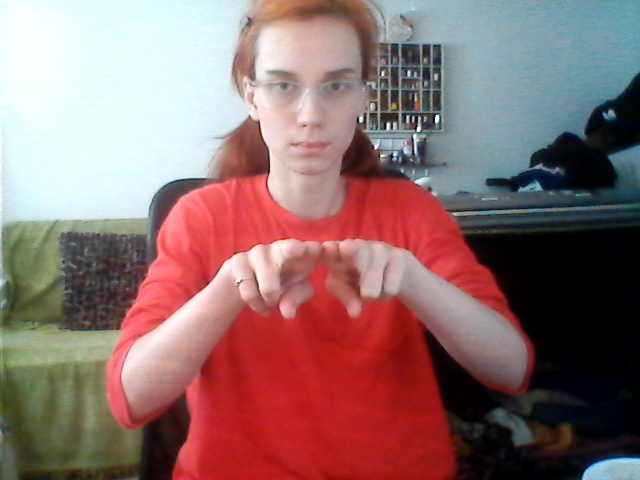brat: (213, 229, 419, 334)
